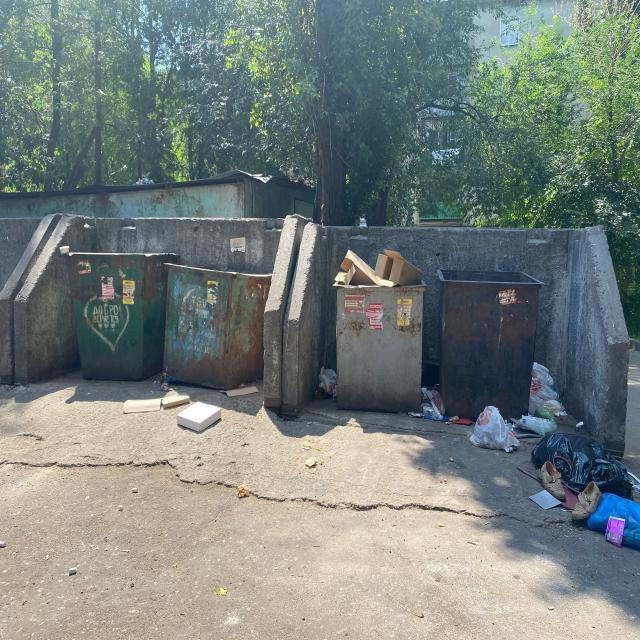bin: (59, 250, 273, 397), (436, 269, 541, 413), (332, 286, 425, 411)
trash: (528, 358, 640, 557), (120, 384, 260, 436), (331, 240, 424, 284), (447, 406, 527, 454), (419, 378, 446, 428), (315, 365, 338, 400)
